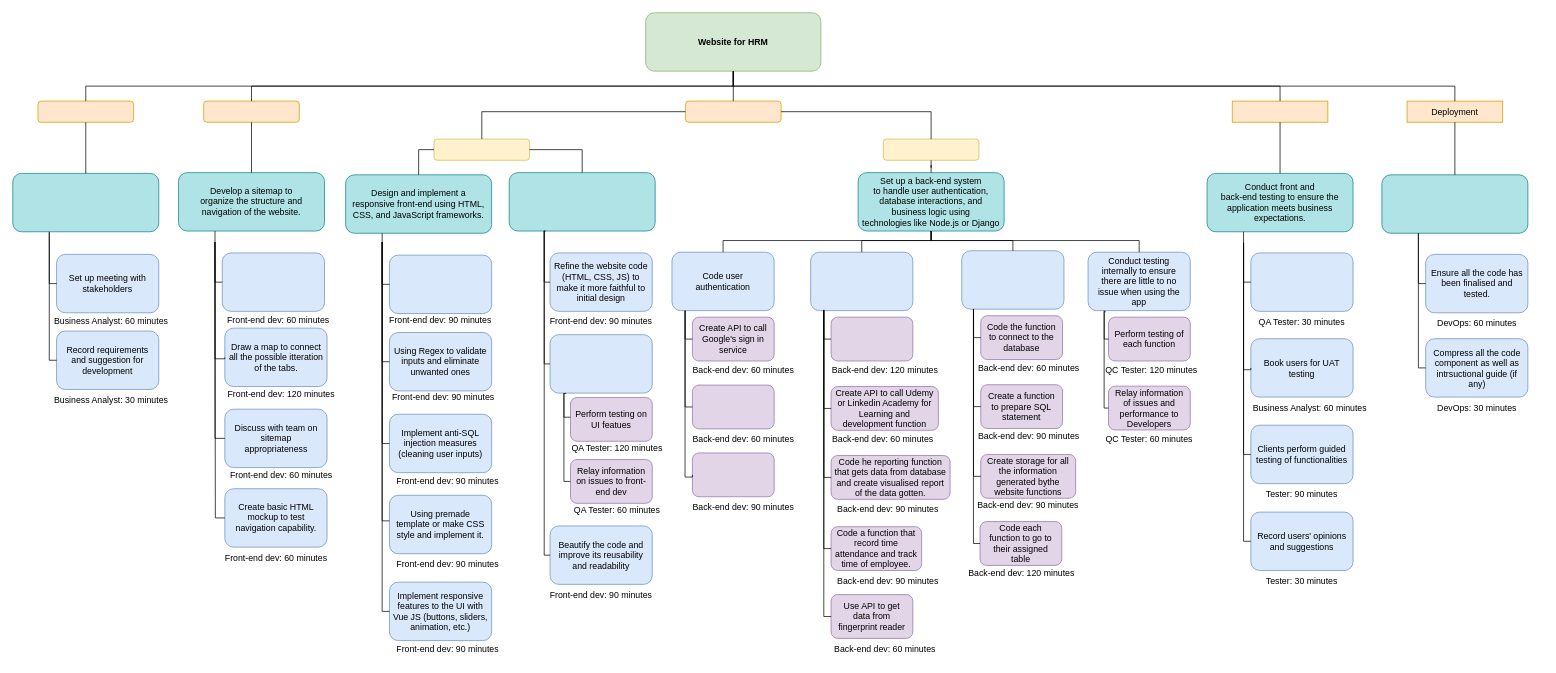
The diagram is 1556 pixels wide and 673 high, and some of its shapes have lost their labels. The shapes that lost their labels are listed below. From the top down, each one's centre as x and y in pixels, then its label:
At point 85,111: "Requirement collection".
At point 251,111: "Architecture Design".
At point 733,111: "Development".
At point 1280,111: "Testing".
At point 481,149: "Front-end".
At point 931,149: "Back-end".
At point 85,202: "Gain requirement of website from client and analyse their needs.".
At point 581,201: "Fine tune the UI code to make it closely align to the UX/UI.".
At point 1454,203: "Create a development package ready for push to production.".
At point 273,281: "Come up with the structure and navigation of the website".
At point 440,284: "Design the front end as basic HTML and CSS".
At point 861,281: "Code already thought out business functions".
At point 1012,279: "Code database connection and interactions".
At point 1301,281: "Create testing form for user".
At point 871,338: "Code Payroll function and assign the payroll formular to it.".
At point 600,363: "Ensure UI functions as expected".
At point 733,406: "Create function to hash and store user's password in the database".
At point 733,474: "Create function to further clean and store username in the database".
